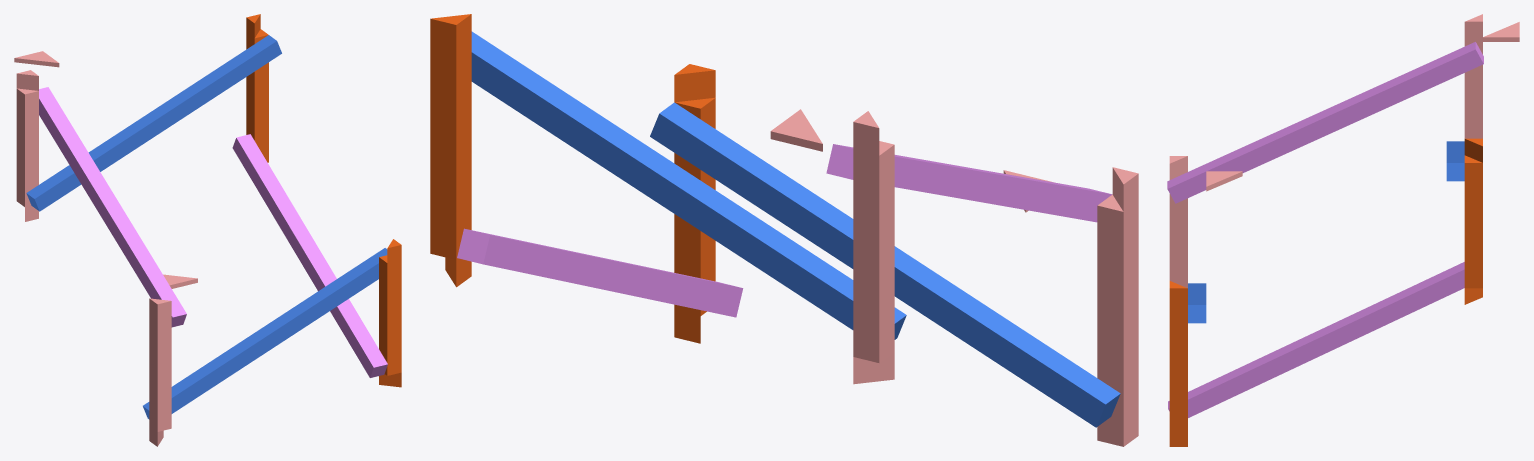
Rendered from ModuleAssembly_layer1_3.obj.
3 renders of one model, left to right at view 1: azimuth 30°, elevation 25°; view 2: azimuth 150°, elevation 25°; view 3: azimuth 270°, elevation 25°, orthographic. The views are drawn at different scales.
Parts seen in each view (by area): view 1: object_5, object_6, object_7, object_8, object_9, object_4, object_2, object_3, object_10; view 2: object_6, object_5, object_4, object_3, object_9, object_8, object_7, object_2, object_10; view 3: object_7, object_8, object_3, object_2, object_9, object_4, object_5, object_6, object_1, object_10.
Boxes of the visible parts, left/top/right/bottom form: object_5: left=26, top=35, right=281, bottom=211; object_6: left=143, top=248, right=387, bottom=419; object_7: left=39, top=87, right=186, bottom=327; object_8: left=232, top=134, right=387, bottom=377; object_9: left=149, top=298, right=171, bottom=446; object_4: left=16, top=70, right=38, bottom=221; object_2: left=379, top=239, right=401, bottom=387; object_3: left=246, top=14, right=268, bottom=162; object_10: left=14, top=51, right=59, bottom=67; object_6: left=650, top=102, right=1120, bottom=427; object_5: left=471, top=31, right=906, bottom=339; object_4: left=853, top=111, right=894, bottom=384; object_3: left=430, top=14, right=471, bottom=287; object_9: left=1097, top=167, right=1138, bottom=446; object_8: left=457, top=228, right=743, bottom=317; object_7: left=826, top=144, right=1112, bottom=222; object_2: left=674, top=64, right=715, bottom=343; object_10: left=770, top=109, right=822, bottom=151; object_7: left=1167, top=42, right=1483, bottom=203; object_8: left=1168, top=262, right=1464, bottom=417; object_3: left=1464, top=138, right=1482, bottom=304; object_2: left=1169, top=281, right=1187, bottom=446; object_9: left=1169, top=156, right=1187, bottom=288; object_4: left=1464, top=14, right=1482, bottom=138; object_5: left=1446, top=141, right=1464, bottom=181; object_6: left=1188, top=283, right=1206, bottom=323; object_1: left=1206, top=171, right=1242, bottom=191; object_10: left=1483, top=22, right=1519, bottom=41.
Bounding box in the file's own units: 0.6127 × 0.635 × 0.6745.
